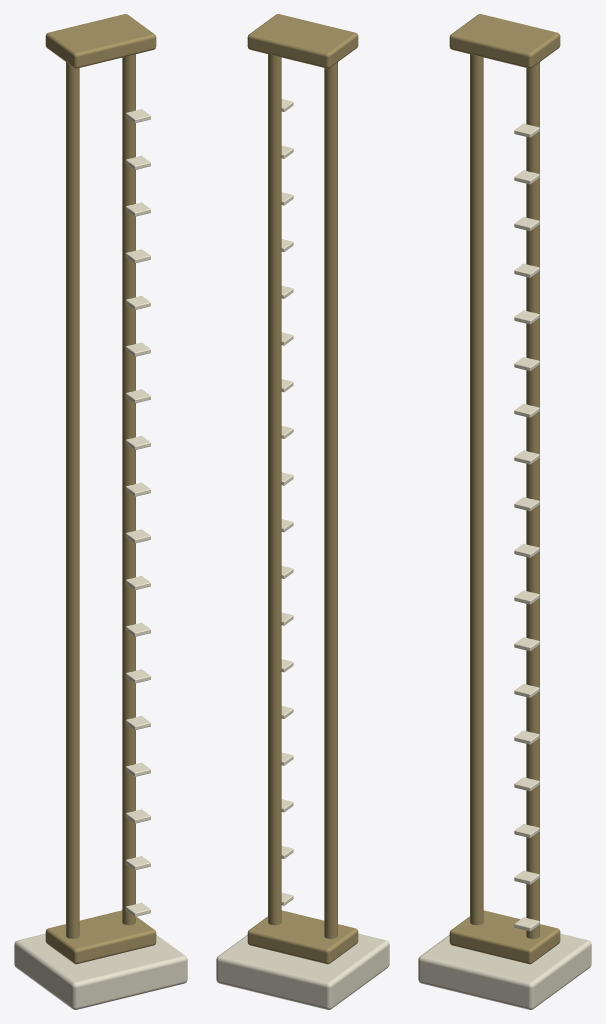
The model's file is water-clock-garden-and-hydraulic-puzzles-pointer-guide-e7980b89__31928.glb.
3 renders of one model, left to right at view 1: azimuth 30°, elevation 25°; view 2: azimuth 150°, elevation 25°; view 3: azimuth 330°, elevation 25°, orthographic.
Visible parts, largest first — view 1: pointer-guide-mast; view 2: pointer-guide-mast; view 3: pointer-guide-mast.
Part boxes in pixels (<box>): pointer-guide-mast: <box>14,14,187,1009</box>; pointer-guide-mast: <box>216,14,389,1009</box>; pointer-guide-mast: <box>418,14,591,1009</box>.
Size of the model in its own units: 0.35 by 2.72 by 0.32.
